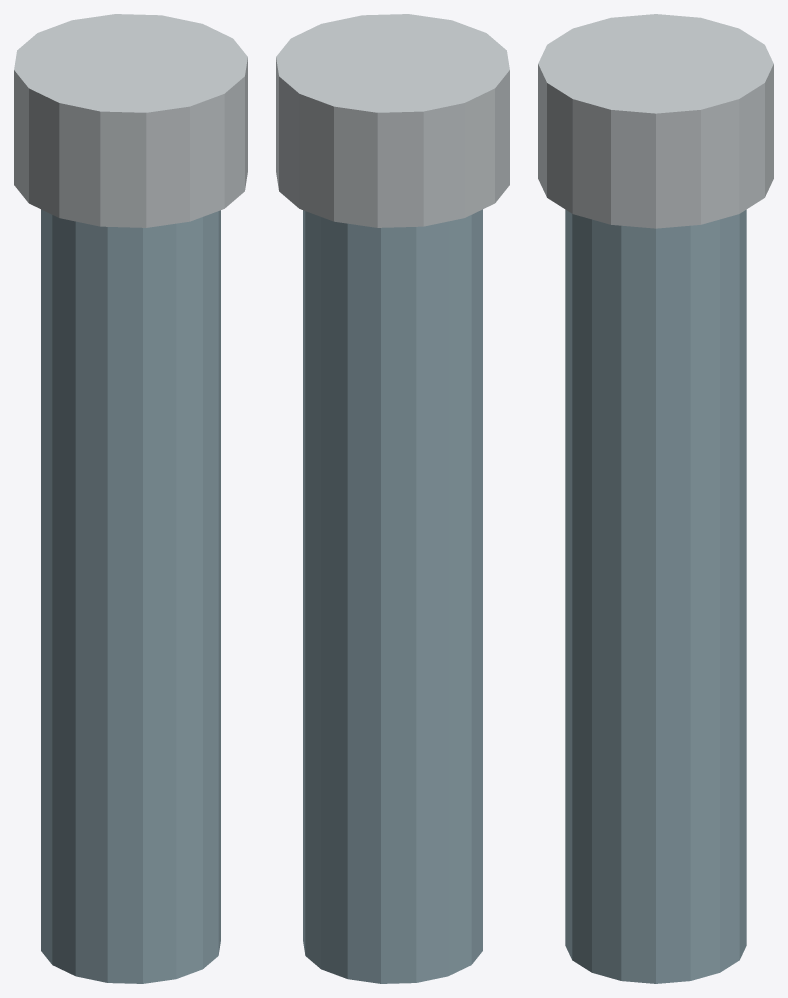
Rendered from heater-100.glb.
3 views of the same model, side by side, from view 1: azimuth 30°, elevation 25°; view 2: azimuth 150°, elevation 25°; view 3: azimuth 270°, elevation 25° (orthographic).
Visible parts, largest first — view 1: ht_tube, ht_cap; view 2: ht_tube, ht_cap; view 3: ht_tube, ht_cap.
Boxes of the visible parts, x1,y1,x2,y2 form: ht_tube: [41, 209, 220, 983]; ht_cap: [14, 14, 247, 227]; ht_tube: [303, 209, 482, 983]; ht_cap: [276, 14, 509, 227]; ht_tube: [565, 209, 746, 983]; ht_cap: [538, 14, 773, 228].
Bounding box in the file's own units: 0.2422 × 1 × 0.2422.
